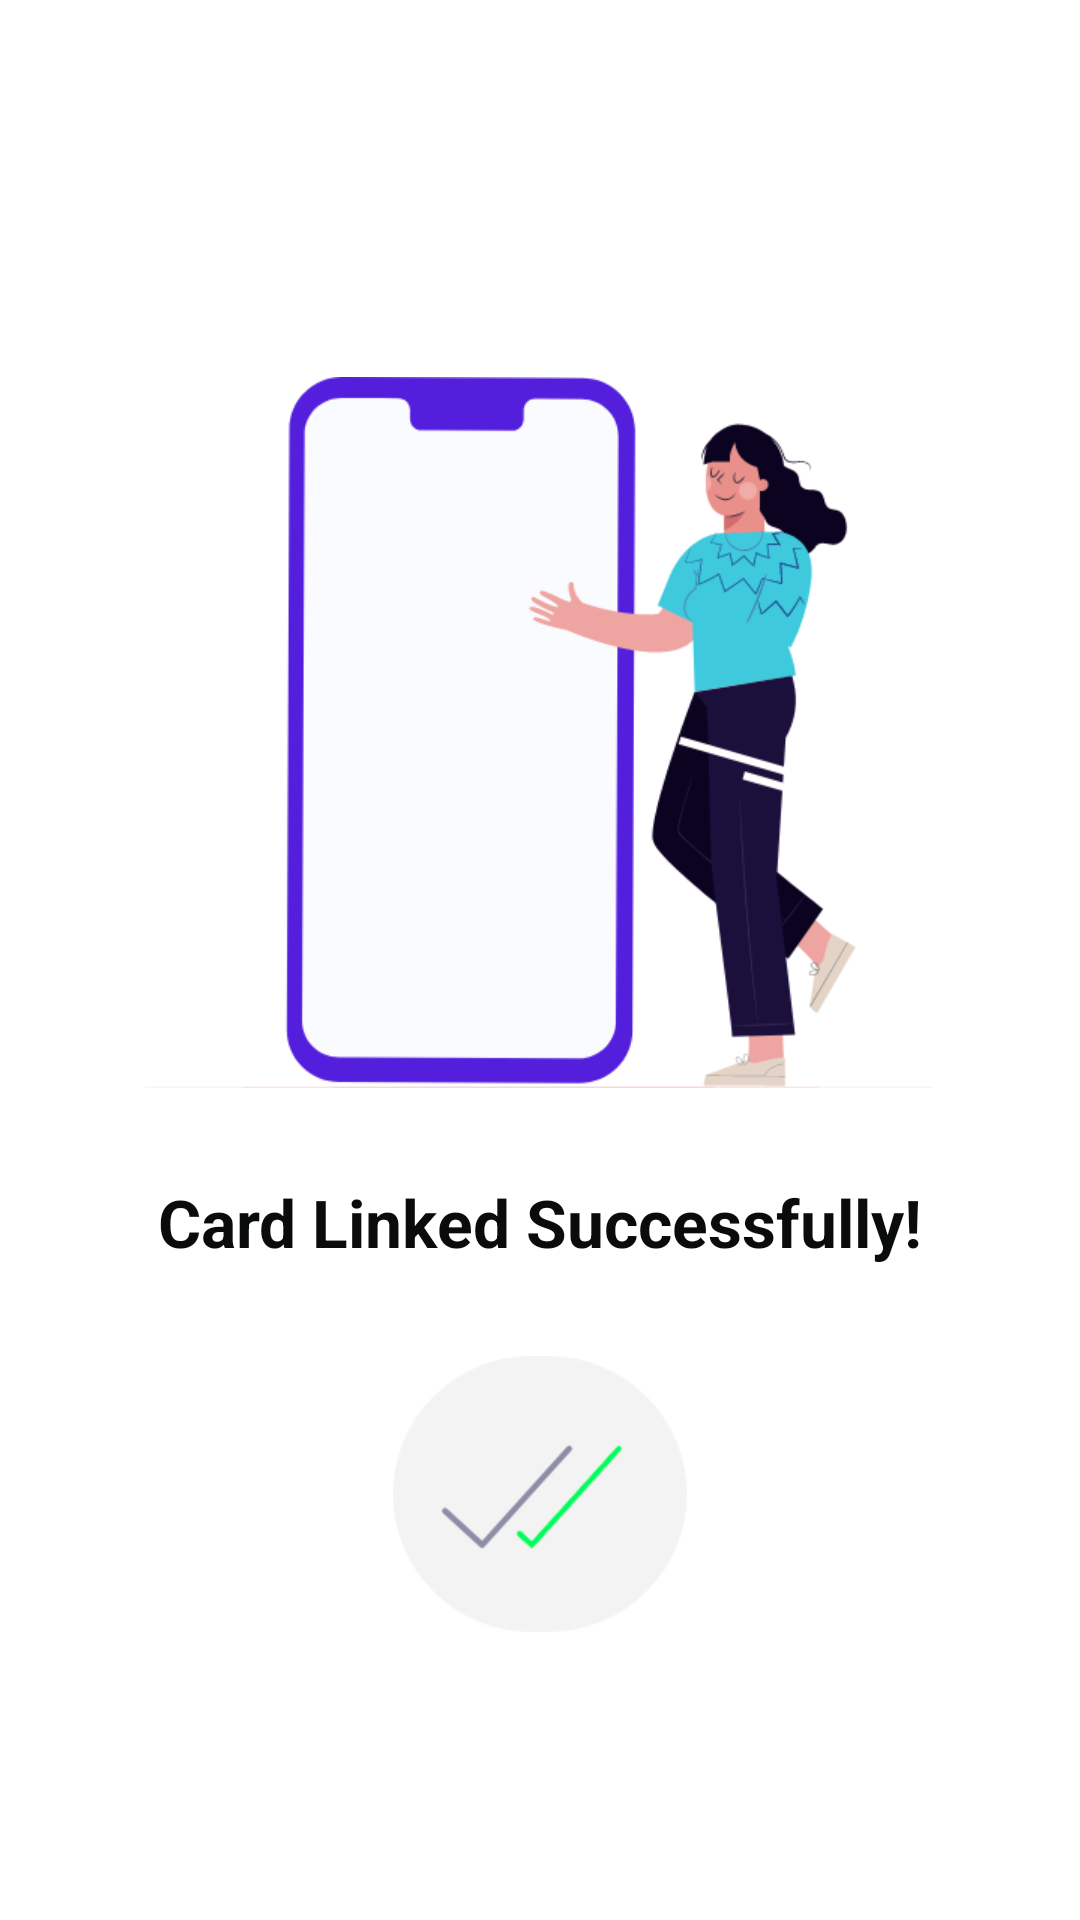

Icon bounding boxes for this 1080x1920 phone screenshot, format box(x1, y1, x2, y2):
tick: box(393, 1356, 687, 1632)
